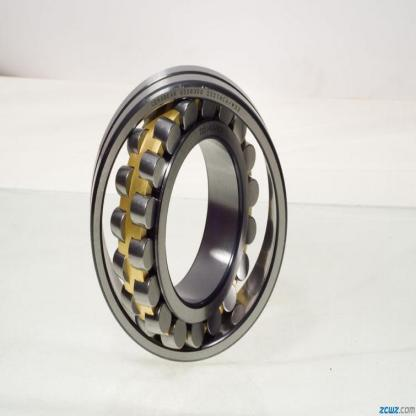FOD: (86, 60, 290, 367)
